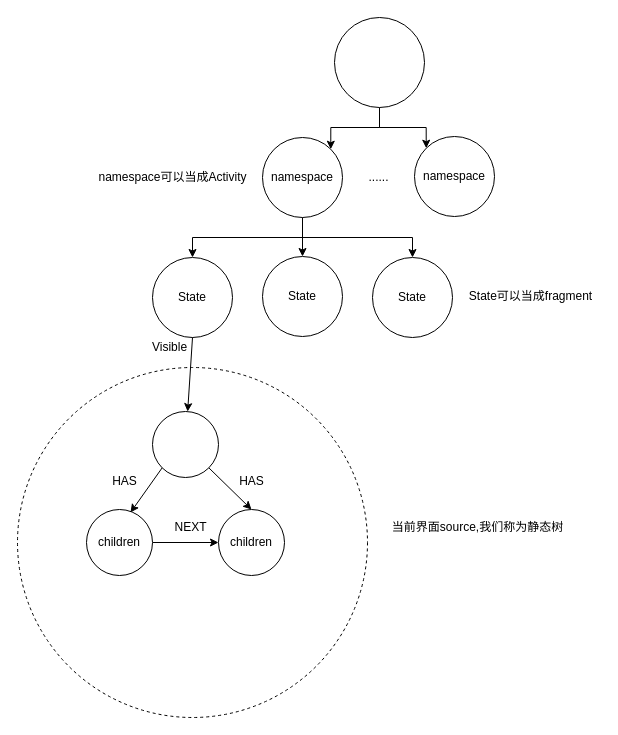
Some shapes in this 618 by 735 pixel diagram are drawn without their labels. Here are the shapes that lost their labels. From the top down, the box of each, then its label:
(334, 16, 424, 108): Graph
(152, 410, 218, 478): root
